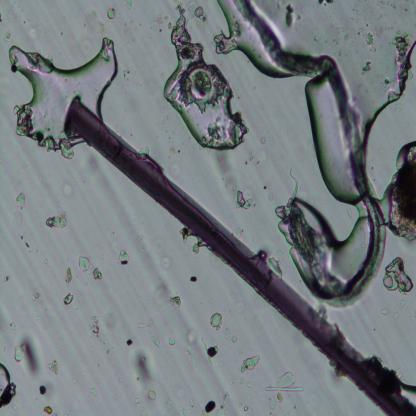Air bubble: (164, 4, 248, 152), (6, 43, 118, 140), (293, 73, 358, 205), (362, 35, 416, 137)
Background material: (387, 144, 416, 236), (16, 330, 47, 378), (384, 258, 414, 295), (215, 150, 238, 194), (132, 348, 154, 388), (150, 234, 172, 272), (268, 369, 304, 392), (0, 361, 16, 407), (40, 136, 70, 160), (150, 275, 170, 304), (187, 5, 209, 28), (86, 314, 104, 341), (149, 10, 172, 31), (234, 190, 253, 212), (45, 213, 69, 229), (218, 391, 232, 416), (238, 357, 262, 371), (14, 190, 29, 212), (12, 344, 29, 363), (348, 3, 362, 25), (285, 4, 297, 29), (184, 346, 195, 369), (186, 327, 198, 348), (76, 255, 91, 271), (210, 310, 222, 330), (148, 334, 162, 350), (17, 232, 31, 248), (244, 147, 256, 165), (204, 399, 216, 416), (48, 358, 59, 376), (117, 252, 131, 266), (186, 273, 201, 286), (170, 293, 182, 309), (61, 182, 73, 198), (206, 344, 217, 361), (240, 403, 254, 416), (62, 293, 75, 307), (63, 268, 73, 286), (364, 28, 374, 46), (106, 6, 118, 20), (189, 242, 201, 256), (267, 396, 277, 412), (361, 58, 372, 72), (136, 319, 151, 329), (234, 223, 243, 239), (92, 268, 103, 281), (394, 100, 403, 115), (316, 0, 335, 7), (358, 23, 368, 36), (7, 322, 17, 334), (149, 388, 157, 402), (38, 385, 48, 396), (223, 327, 232, 339), (30, 292, 40, 302), (123, 0, 132, 11), (167, 336, 176, 347), (374, 25, 382, 37), (342, 33, 350, 45), (232, 333, 240, 345), (337, 49, 346, 59), (44, 405, 54, 414), (379, 146, 386, 156), (381, 307, 388, 317), (410, 311, 416, 322), (189, 397, 194, 410), (263, 183, 271, 191), (70, 376, 78, 384), (389, 2, 397, 10), (182, 408, 189, 416), (245, 380, 252, 388), (266, 194, 274, 201), (260, 136, 266, 145), (4, 275, 10, 284), (394, 312, 400, 320), (384, 78, 390, 86), (333, 38, 339, 46), (89, 391, 98, 396), (377, 12, 382, 21), (240, 172, 246, 179), (134, 396, 139, 404), (105, 348, 110, 356), (400, 299, 405, 307), (127, 338, 132, 346), (35, 314, 40, 320), (240, 377, 244, 383), (45, 259, 48, 265)
Cellulose filter fibre: (234, 0, 386, 304)
Diatom: (180, 62, 220, 106)
Microfibre: (63, 97, 416, 416)
